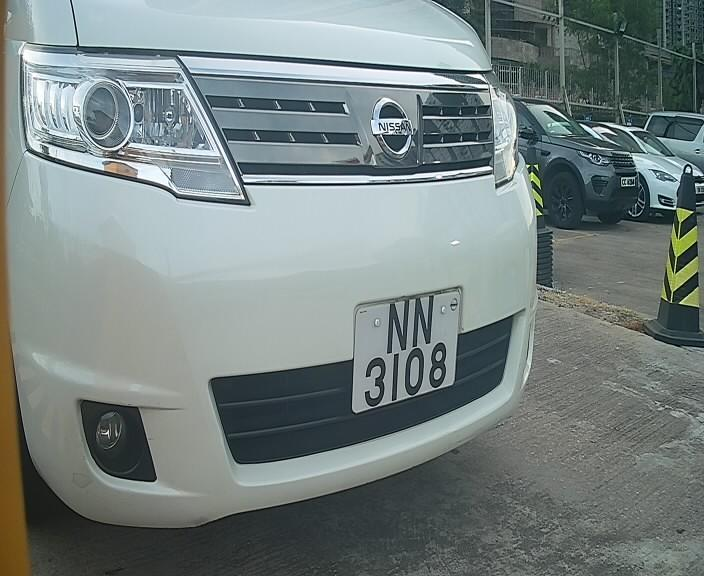privatecar: (16, 13, 554, 530)
